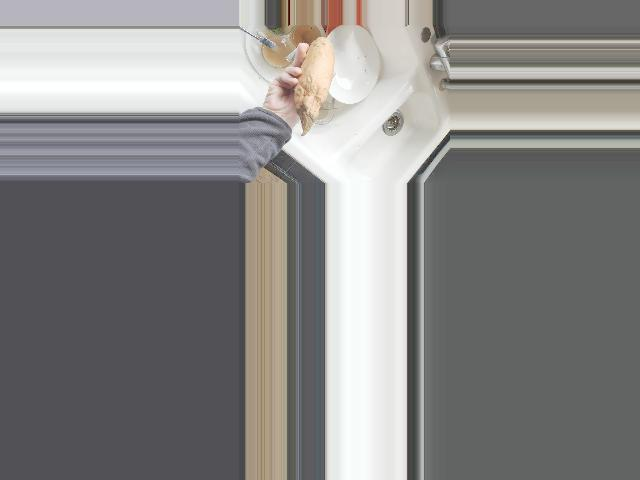sweet_potato: (294, 37, 337, 136)
